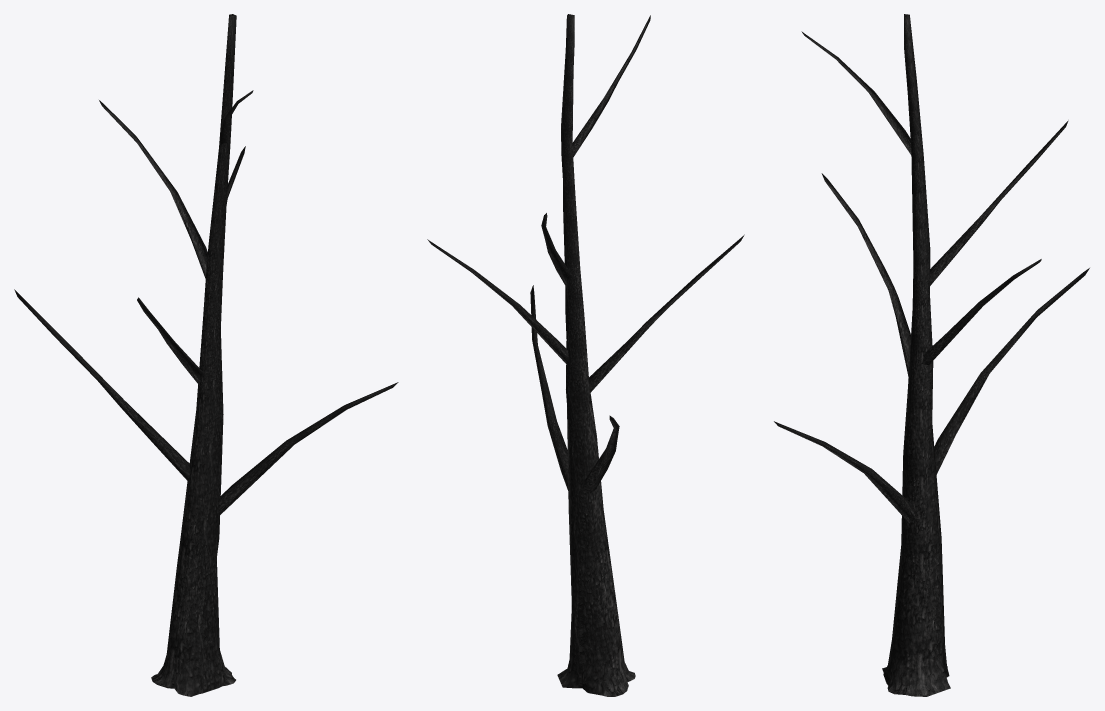
Rendered from tree_8.obj.
3 views of the same model, side by side, from view 1: azimuth 30°, elevation 25°; view 2: azimuth 150°, elevation 25°; view 3: azimuth 270°, elevation 25° (orthographic). The views are drawn at different scales.
Parts seen in each view (by area): view 1: tree_8; view 2: tree_8; view 3: tree_8.
Boxes of the visible parts, x1=… form: tree_8: x1=14, y1=14, x2=398, y2=696; tree_8: x1=427, y1=14, x2=744, y2=696; tree_8: x1=774, y1=14, x2=1089, y2=696.
Bounding box in the file's own units: 2.97 × 7.91 × 3.34.
